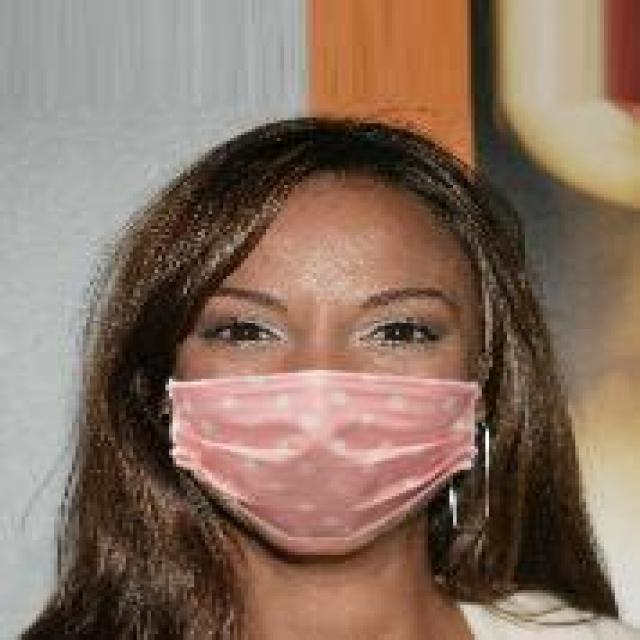mask: (104, 67, 561, 558)
